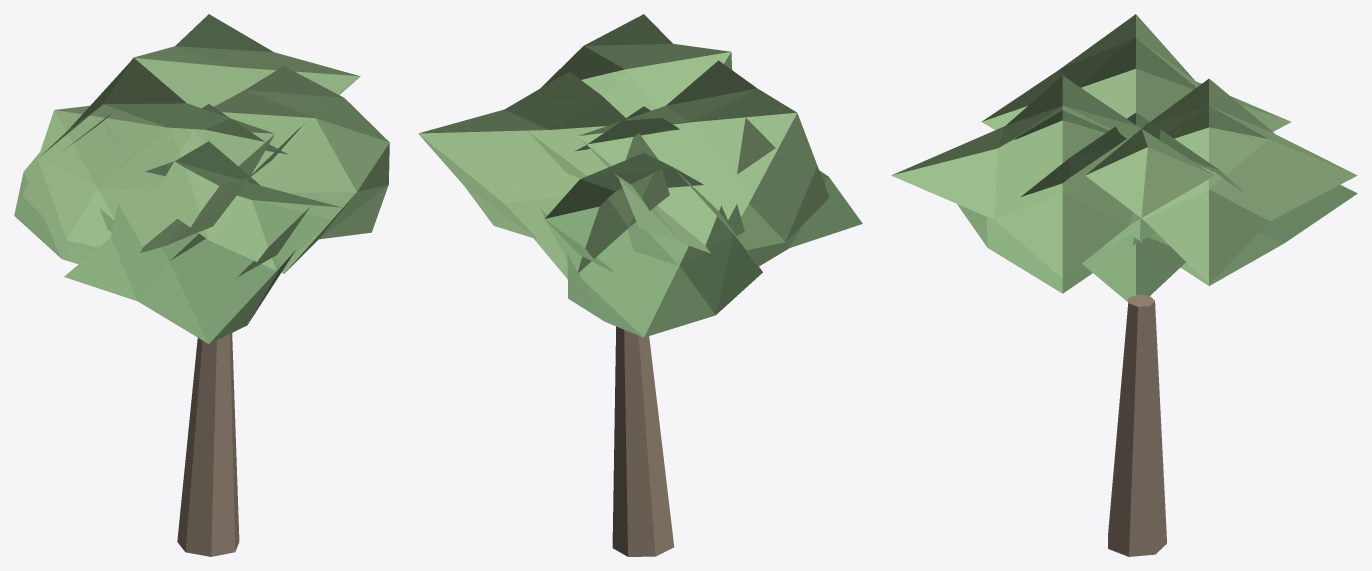
File: broadleaf_v23.glb
The picture shows the model from 3 angles, left to right: view 1: azimuth 30°, elevation 25°; view 2: azimuth 150°, elevation 25°; view 3: azimuth 270°, elevation 25°; orthographic projection. The views are drawn at different scales.
Parts seen in each view (by area): view 1: lod0; view 2: lod0; view 3: lod0.
Boxes of the visible parts, x1,y1,x2,y2 form: lod0: (14,14,389,556); lod0: (418,14,862,556); lod0: (891,14,1357,556).
Size of what is drawn, in the model's own units: 4.9 by 6.3 by 5.39.
